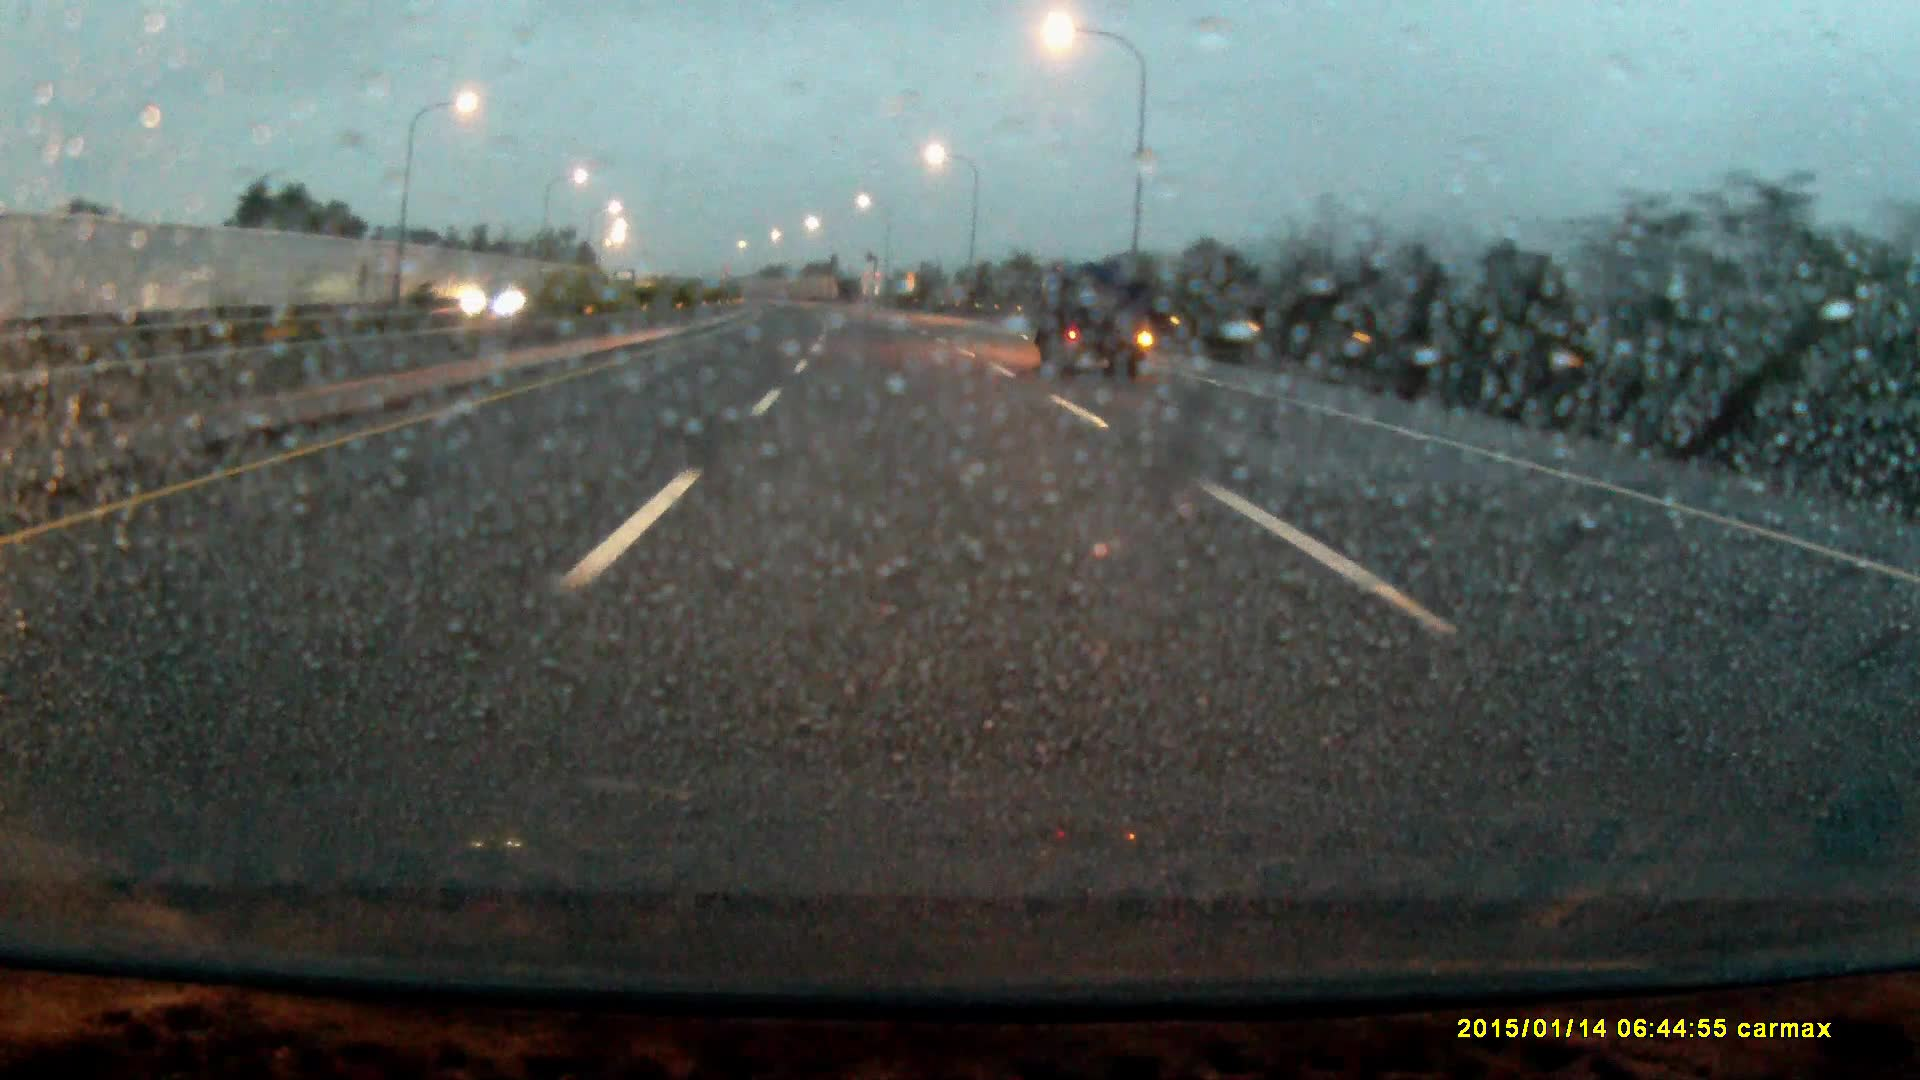vehicle: (1040, 272, 1150, 378), (459, 280, 535, 322)
